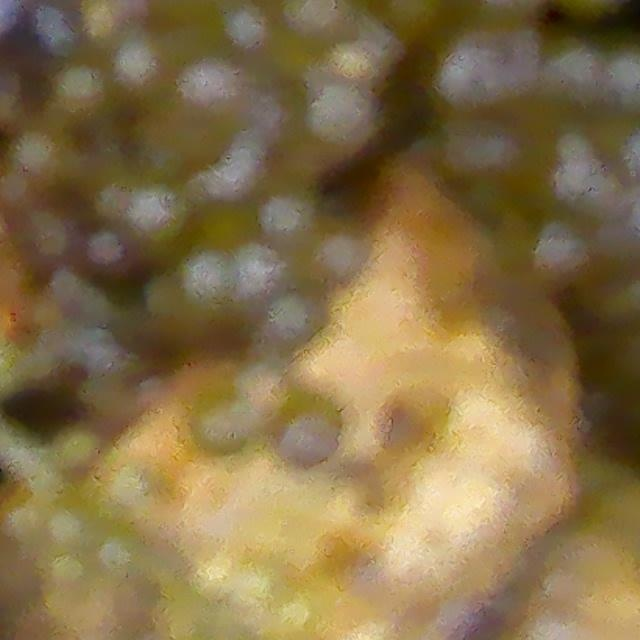SeaGrape: (435, 39, 519, 116), (172, 57, 252, 128), (264, 389, 337, 466), (111, 31, 178, 103), (180, 249, 239, 311), (80, 227, 138, 289), (380, 0, 448, 45)
